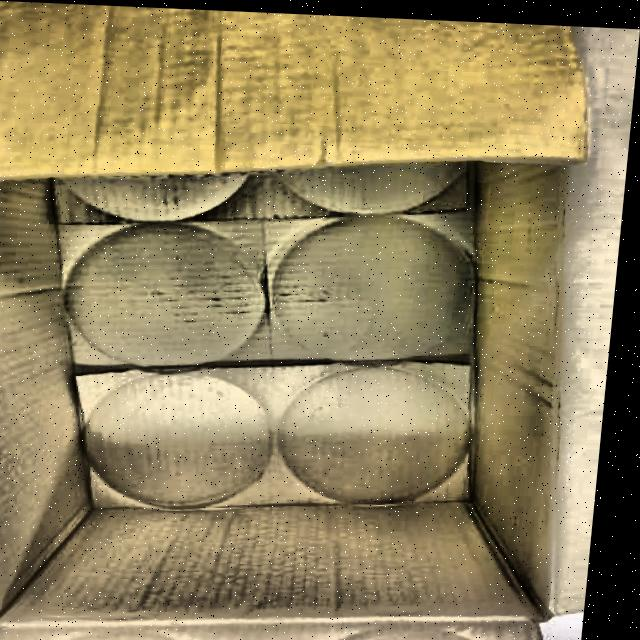cardboard: (0, 0, 640, 640), (0, 0, 604, 210)
